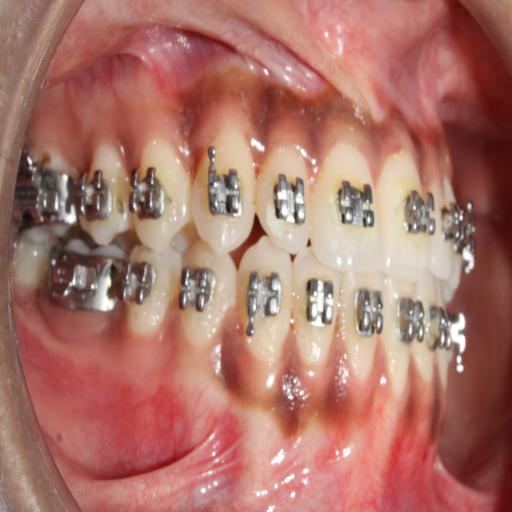correct_brace: (127, 144, 191, 248), (330, 177, 374, 234), (268, 172, 310, 228), (206, 167, 245, 222), (402, 180, 436, 238)
incorrect_brace: (256, 146, 314, 256), (129, 166, 165, 224)
